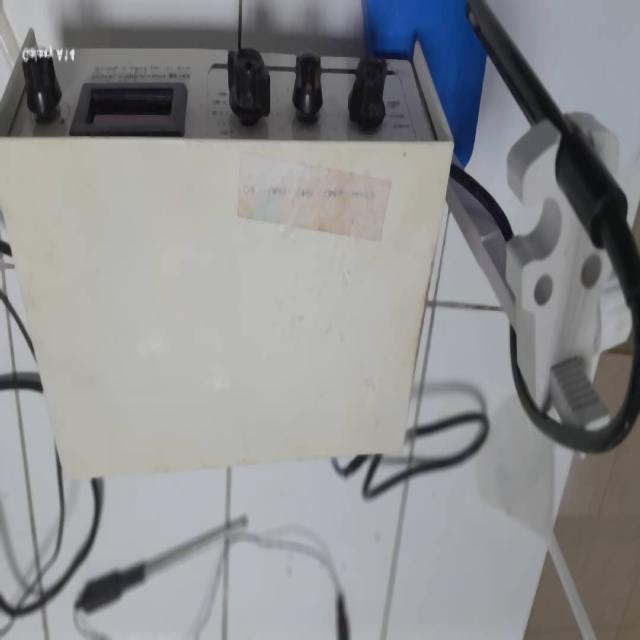Conductivity Meter: (6, 0, 640, 486)
